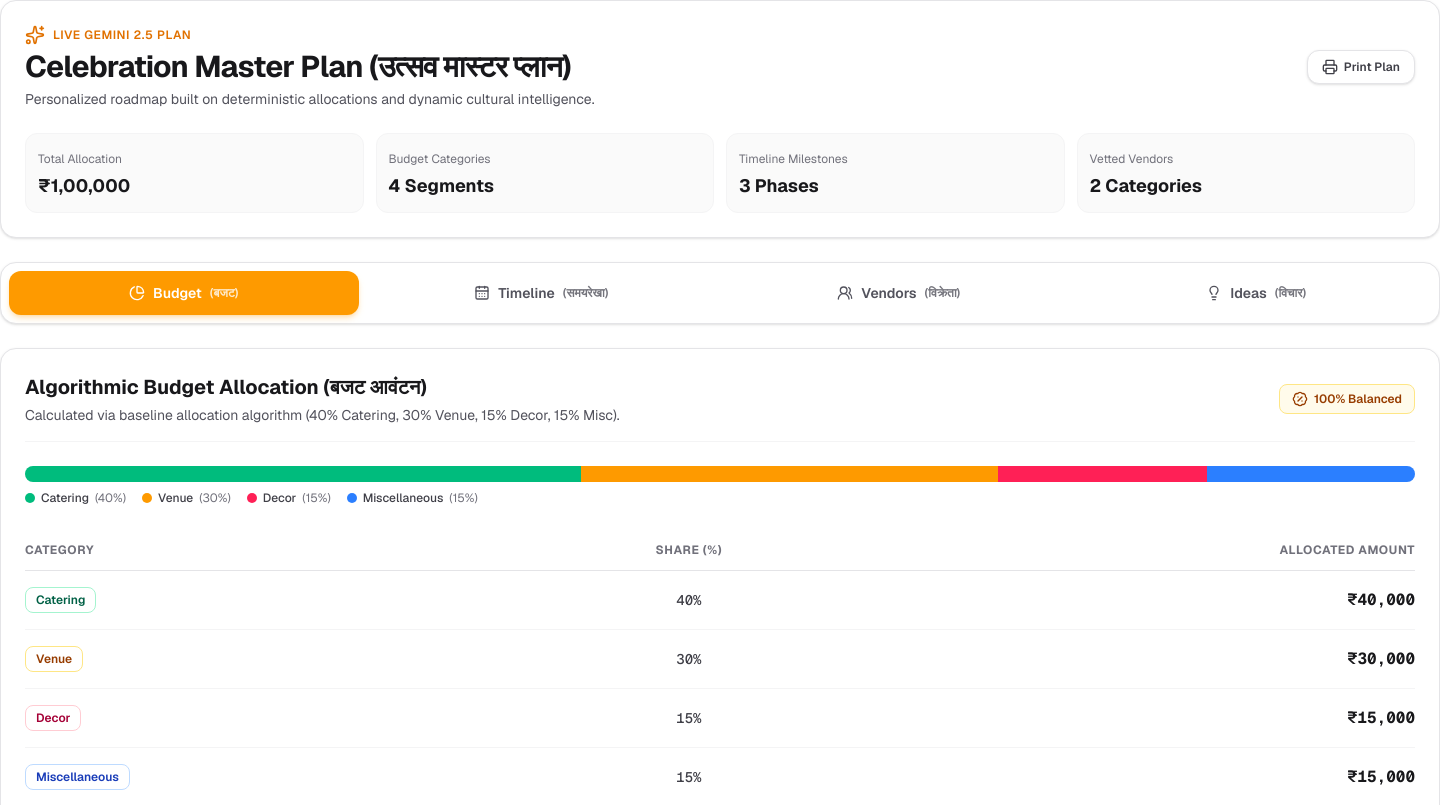
Test: Day 2: UI, Dashboard & Accessibility Tests › 2. PlanDashboard Component & Full WAI-ARIA Tab Accessibility › should switch tabs on click and render corresponding panel content
Click the tab "Timeline (समयरेखा)" at {"x": 541, "y": 293}, box x1=366 y1=271 x2=716 y2=315
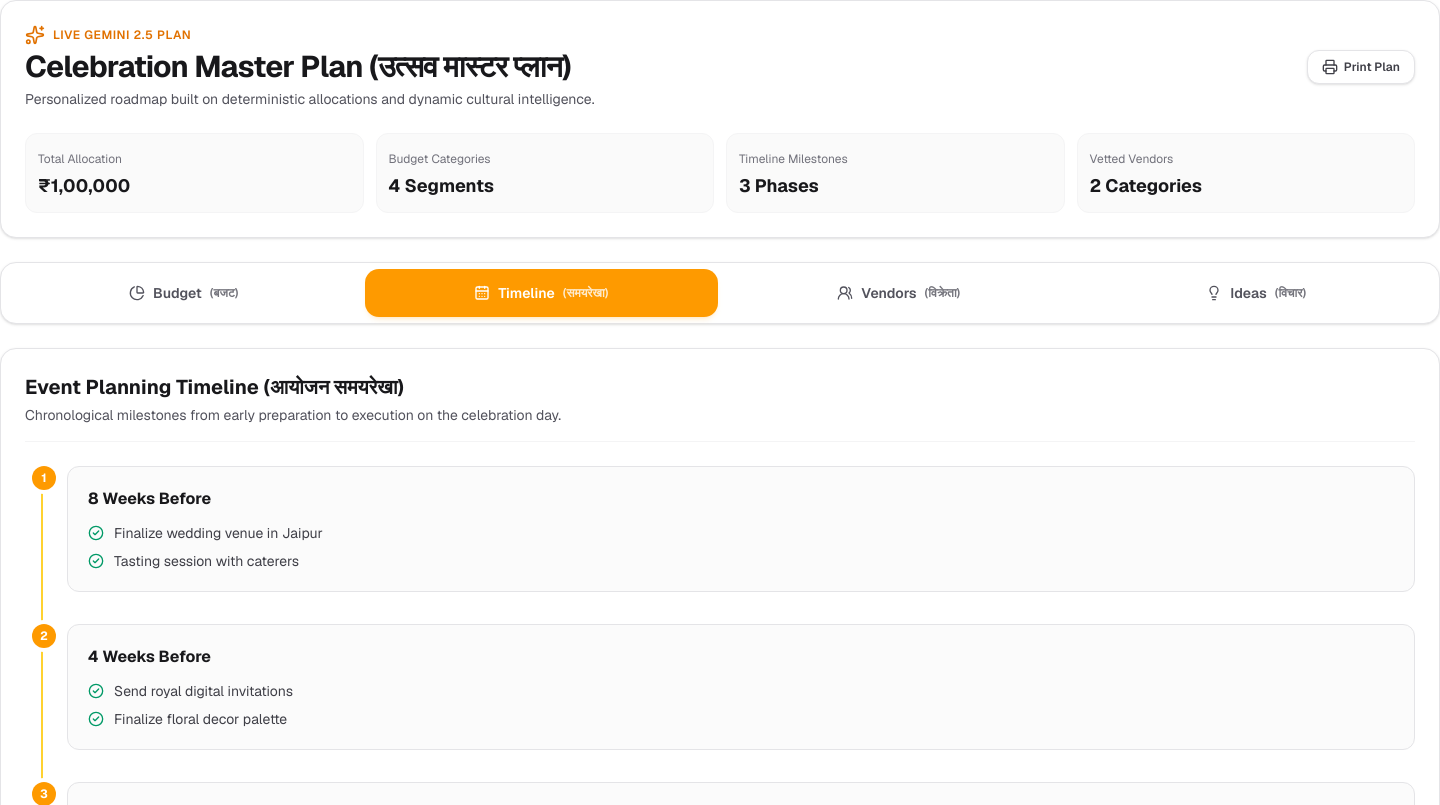
Result: the heading "8 Weeks Before" is shown at x1=88 y1=488 x2=211 y2=509
Result: the text "Finalize wedding venue in Jaipur" is shown at x1=114 y1=523 x2=323 y2=543
